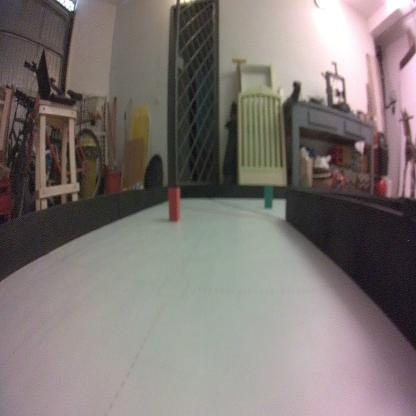green: (262, 182, 276, 210)
red: (166, 184, 180, 225)
